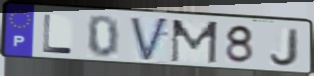0: (86, 14, 123, 60)
8: (224, 24, 256, 66)
J: (268, 27, 302, 68)
L: (41, 13, 75, 56)
M: (168, 18, 221, 66)
V: (128, 15, 171, 64)
